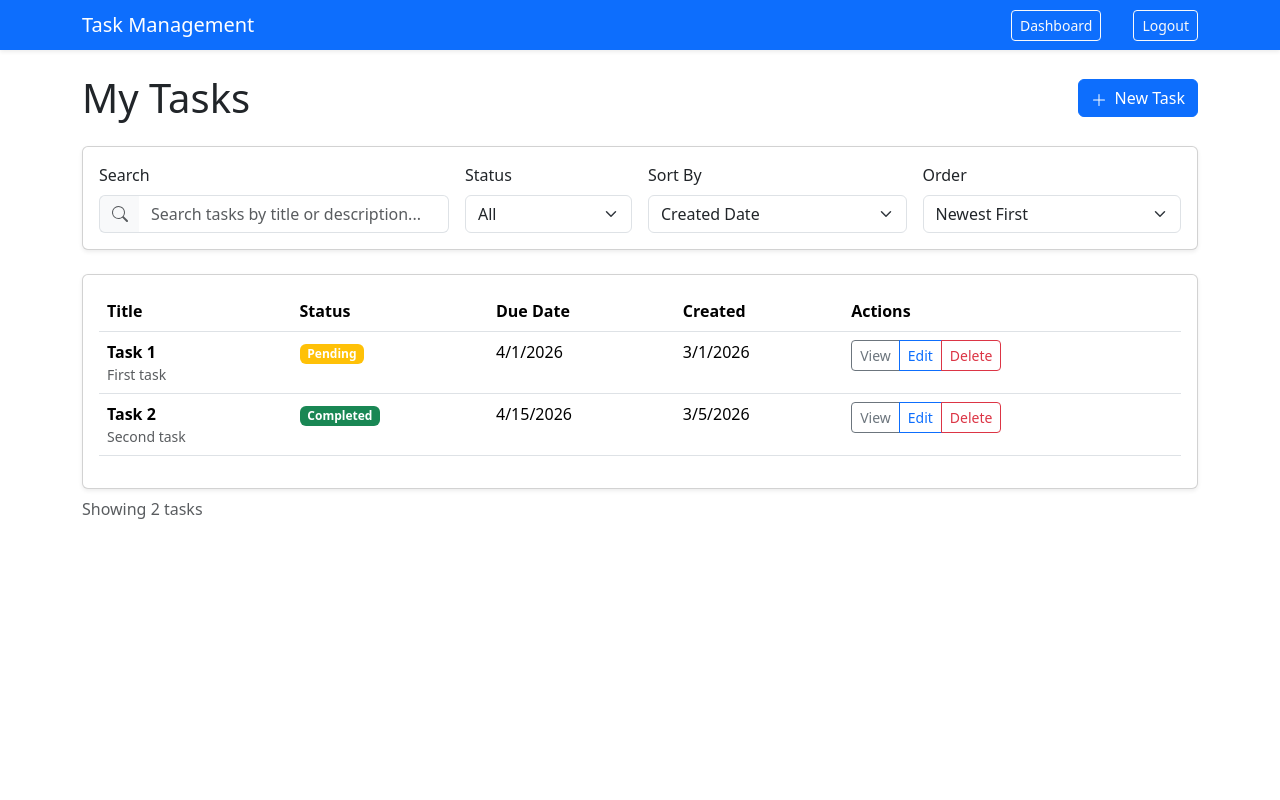
it: TasksPage › should open delete confirmation modal when Delete button is clicked
Expected: the text "Task 1" is shown, left=107, top=341, right=156, bottom=363
Click the button with aria-label "Delete Task 1".
click(971, 356)  # box left=941, top=340, right=1001, bottom=371
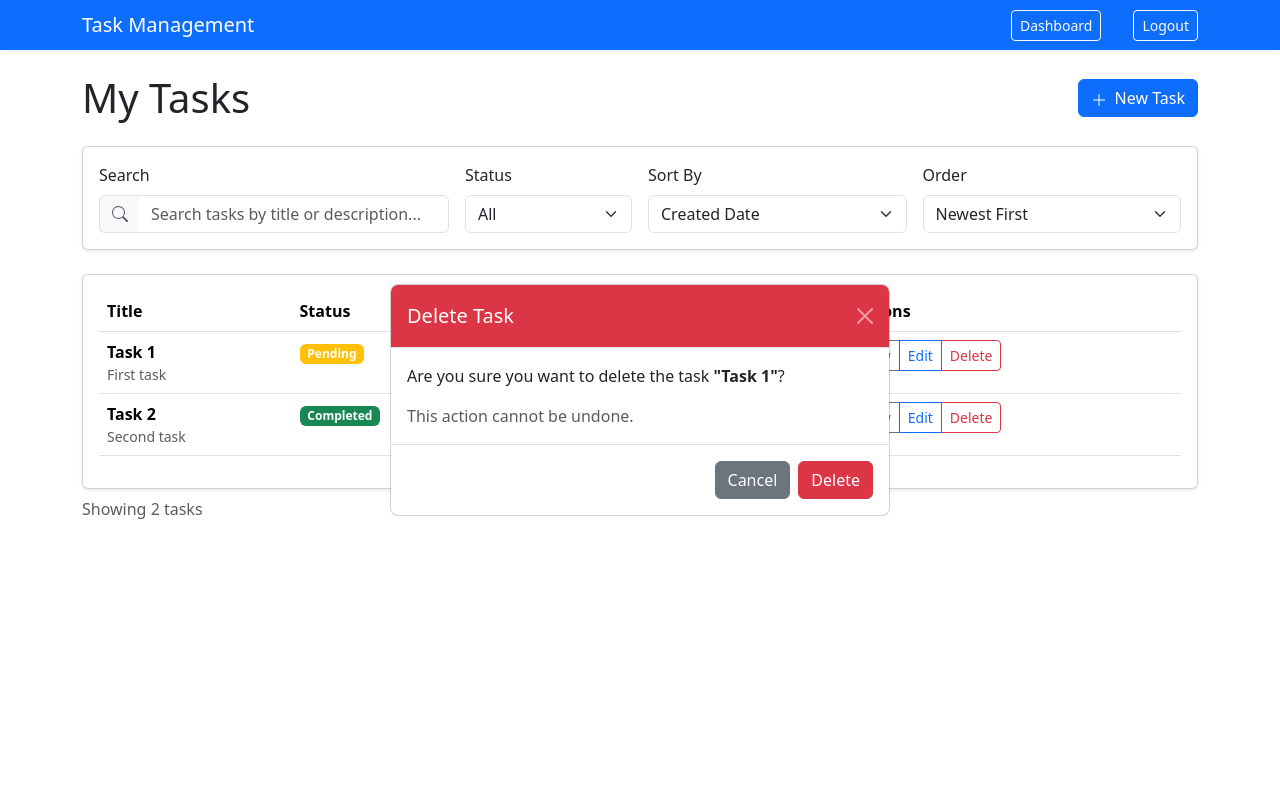
Expected: the heading "Delete Task" is shown, left=407, top=301, right=514, bottom=331
